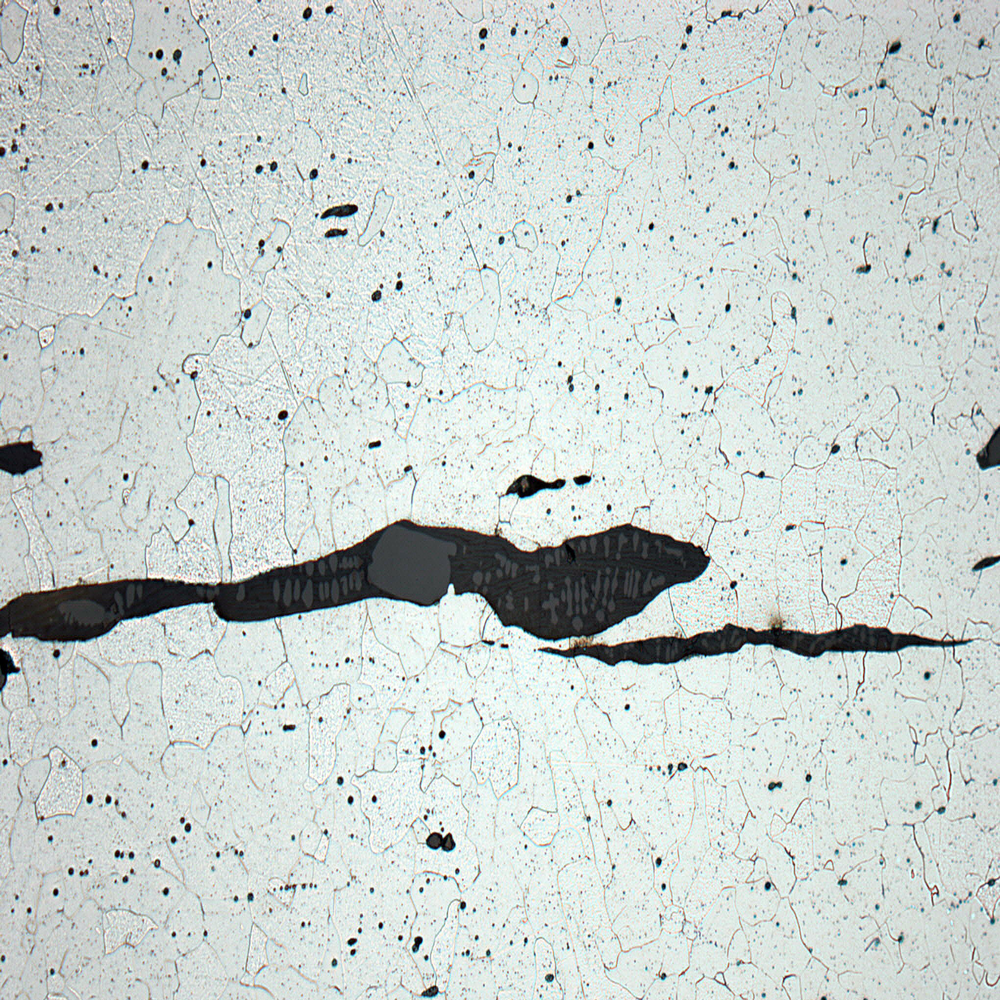crack: (1, 514, 983, 686)
